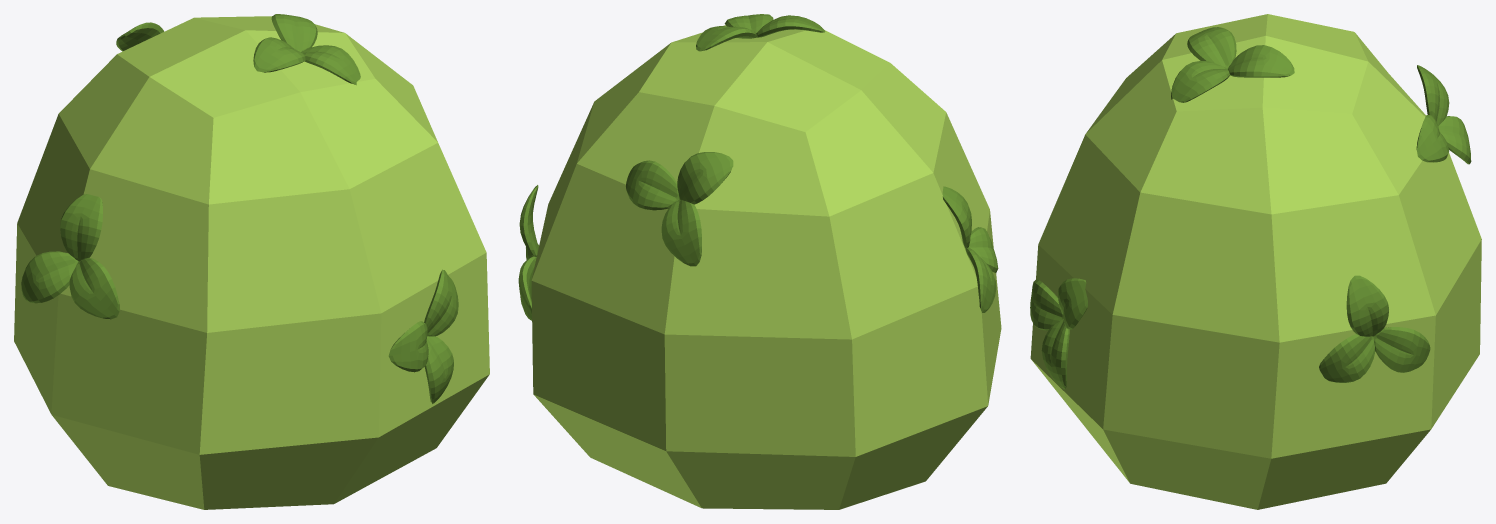
The model's file is bush_small_leaf.fbx.
3 renders of one model, left to right at view 1: azimuth 30°, elevation 25°; view 2: azimuth 150°, elevation 25°; view 3: azimuth 270°, elevation 25°, orthographic.
Visible parts, largest first — view 1: Cube.043, Cube.118, Cube.150, Cube.151, Cube.013; view 2: Cube.043, Cube.013, Cube.118, Cube.151, Cube.152; view 3: Cube.043, Cube.152, Cube.151, Cube.150, Cube.013.
Part boxes in pixels (x1=…): Cube.043: x1=14, y1=16, x2=489, y2=509; Cube.118: x1=21, y1=194, x2=119, y2=319; Cube.150: x1=388, y1=269, x2=458, y2=403; Cube.151: x1=253, y1=14, x2=360, y2=85; Cube.013: x1=116, y1=22, x2=164, y2=51; Cube.043: x1=531, y1=25, x2=1001, y2=509; Cube.013: x1=626, y1=152, x2=733, y2=266; Cube.118: x1=942, y1=186, x2=998, y2=312; Cube.151: x1=696, y1=14, x2=825, y2=51; Cube.152: x1=518, y1=185, x2=538, y2=320; Cube.043: x1=1030, y1=14, x2=1481, y2=509; Cube.152: x1=1319, y1=275, x2=1430, y2=382; Cube.151: x1=1171, y1=27, x2=1294, y2=102; Cube.150: x1=1030, y1=278, x2=1087, y2=389; Cube.013: x1=1416, y1=65, x2=1471, y2=164.
Bounding box in the file's own units: 1.47 × 1.35 × 1.45.
